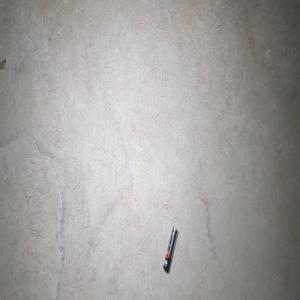Battery: (163, 226, 178, 273)
